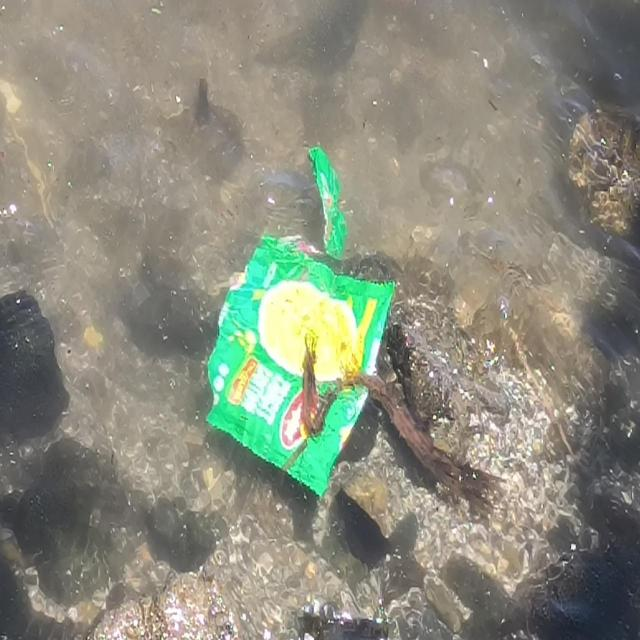plastic_waste: (204, 144, 398, 502)
